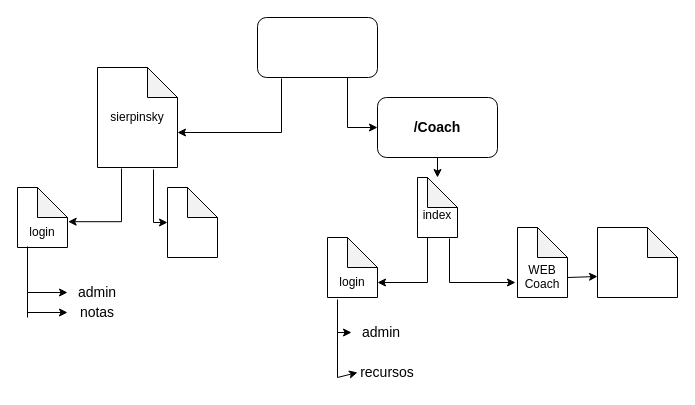
Some shapes in this 695 by 405 pixel diagram are drawn without their labels. Each missing label, with the box of its shape:
citas.php: (596, 226, 678, 298)
reto-labs.es: (256, 16, 378, 78)
WEB Reto: (166, 186, 218, 258)
